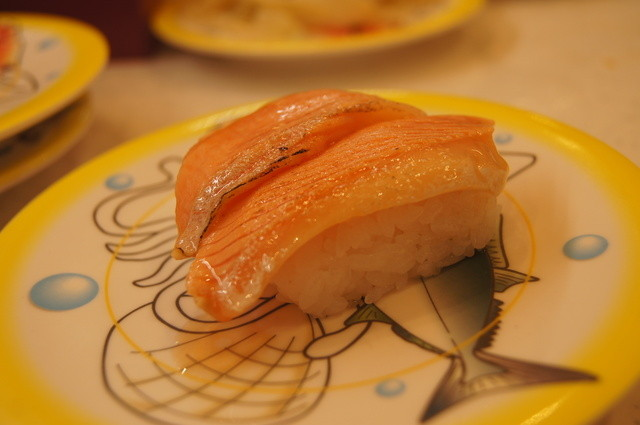salmon: (206, 113, 499, 308)
